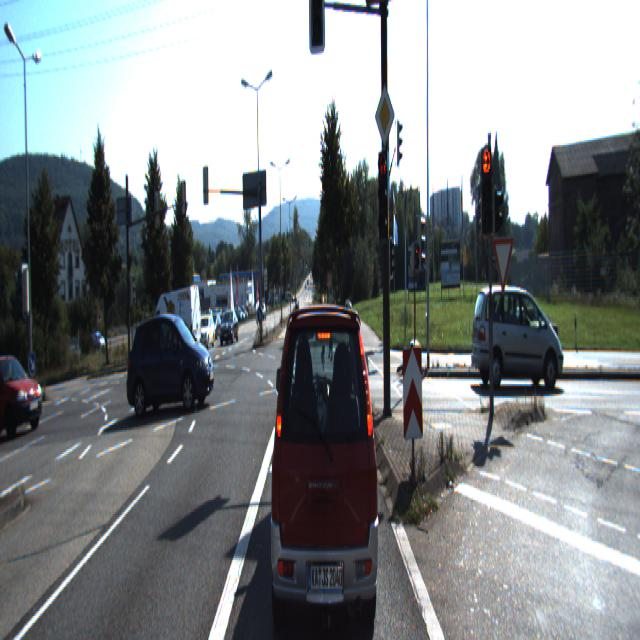Car: (267, 279, 381, 637), (469, 282, 565, 390), (126, 317, 216, 417), (488, 298, 560, 373), (146, 286, 203, 368), (0, 344, 46, 436), (172, 321, 193, 355), (195, 316, 215, 350), (219, 309, 239, 343)
